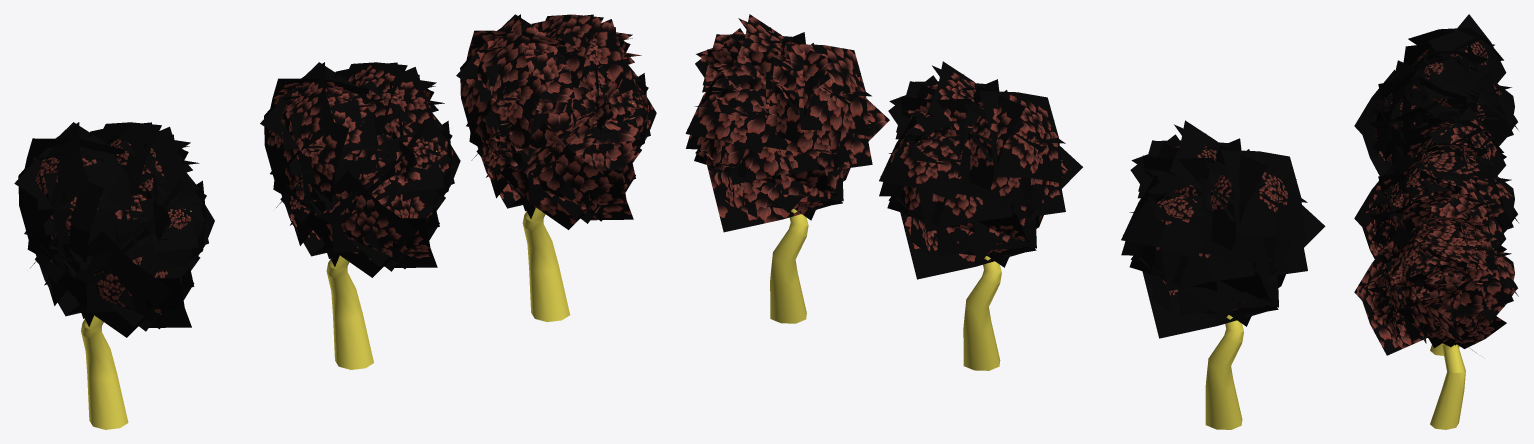
Rendered from 5_Arboles_Largos_Degradado.fbx.
The picture shows the model from 3 angles, left to right: view 1: azimuth 30°, elevation 25°; view 2: azimuth 150°, elevation 25°; view 3: azimuth 270°, elevation 25°; orthographic projection. The views are drawn at different scales.
Visible parts, largest first — view 1: 6_Azul_LOD_0.002; view 2: 6_Azul_LOD_0.002; view 3: 6_Azul_LOD_0.002.
Boxes of the visible parts, bbox=[...] form: 6_Azul_LOD_0.002: bbox=[14, 14, 656, 429]; 6_Azul_LOD_0.002: bbox=[685, 14, 1325, 429]; 6_Azul_LOD_0.002: bbox=[1354, 14, 1518, 429].
Size of the model in its own units: 2122 by 957 by 640.
